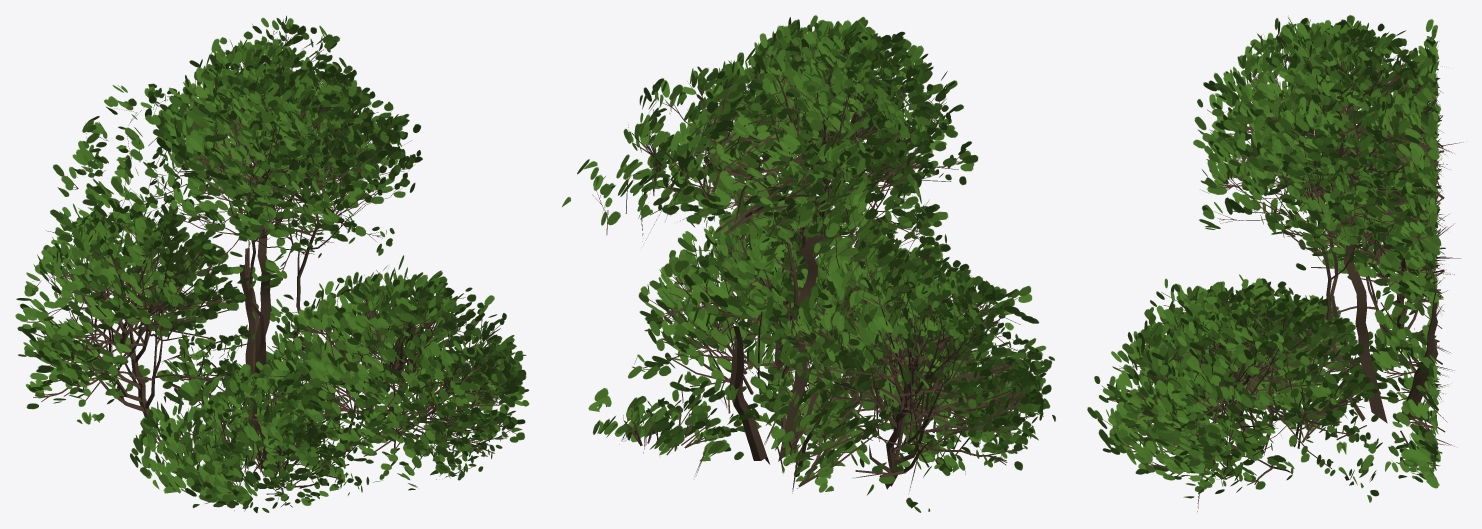
3 views of the same model, side by side, from view 1: azimuth 30°, elevation 25°; view 2: azimuth 150°, elevation 25°; view 3: azimuth 270°, elevation 25° (orthographic). The views are drawn at different scales.
Visible parts, largest first — view 1: oak 01.001_trunk_Mat.001_0.435; view 2: oak 01.001_trunk_Mat.001_0.435; view 3: oak 01.001_trunk_Mat.001_0.435.
Boxes of the visible parts, x1,y1,x2,y2 form: oak 01.001_trunk_Mat.001_0.435: (15,15,529,512); oak 01.001_trunk_Mat.001_0.435: (562,15,1055,512); oak 01.001_trunk_Mat.001_0.435: (1087,15,1463,511).
Bounding box in the file's own units: 4.08 × 3.54 × 3.02.
2 materials, 1 textured.
